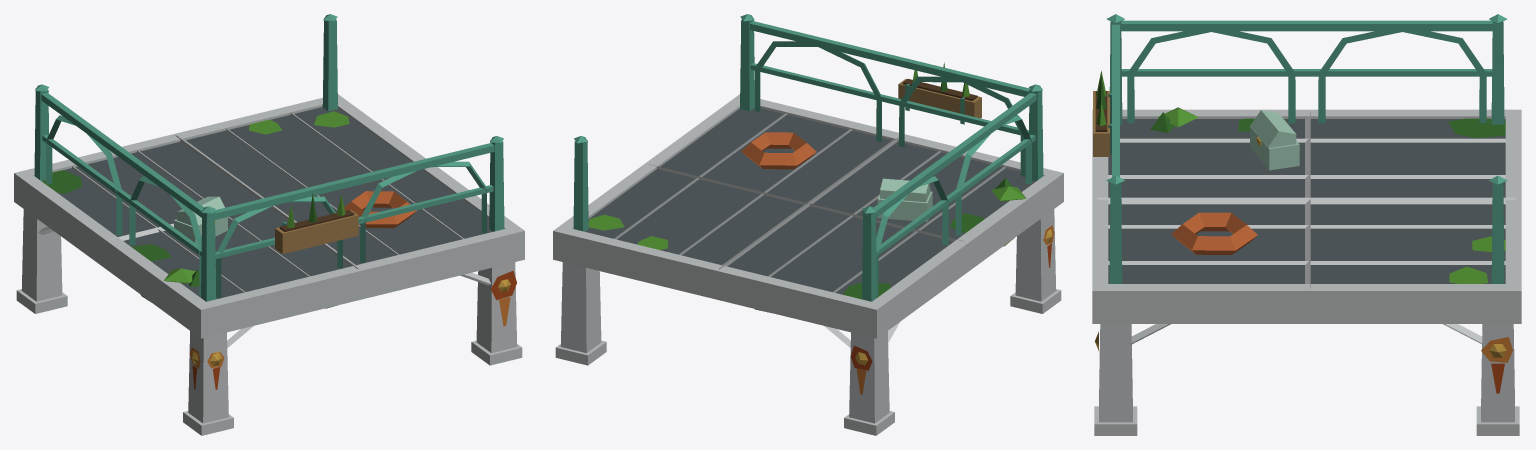
File: catwalk-corner-ae4630.glb
The picture shows the model from 3 angles, left to right: view 1: azimuth 30°, elevation 25°; view 2: azimuth 150°, elevation 25°; view 3: azimuth 270°, elevation 25°; orthographic projection. The views are drawn at different scales.
Visible parts, largest first — view 1: platform, hose-mesh, toolbox-mesh; view 2: platform, hose-mesh, toolbox-mesh; view 3: platform, hose-mesh, toolbox-mesh.
Boxes of the visible parts, x1=… form: platform: x1=14, y1=14, x2=524, y2=435; hose-mesh: x1=344, y1=191, x2=416, y2=228; toolbox-mesh: x1=174, y1=196, x2=227, y2=243; platform: x1=553, y1=14, x2=1063, y2=435; hose-mesh: x1=741, y1=132, x2=816, y2=169; toolbox-mesh: x1=877, y1=178, x2=932, y2=221; platform: x1=1092, y1=14, x2=1521, y2=435; hose-mesh: x1=1171, y1=212, x2=1257, y2=254; toolbox-mesh: x1=1250, y1=110, x2=1299, y2=170.
Bounding box in the file's own units: 4 × 2.58 × 4.
